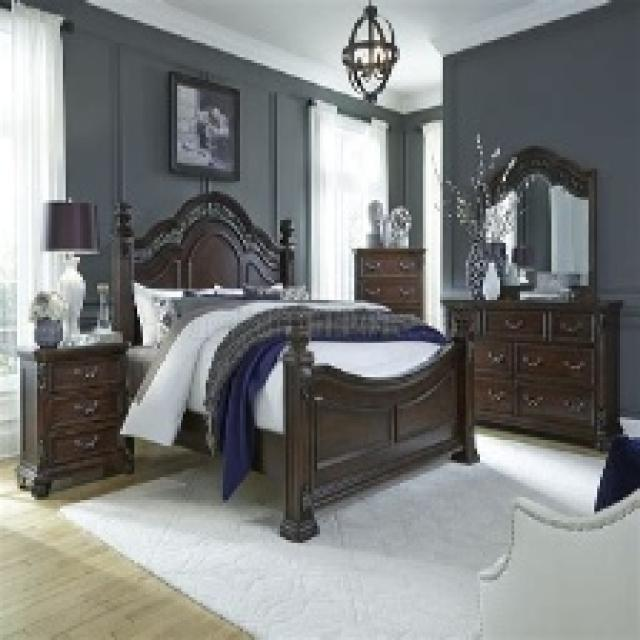Bed: (109, 183, 474, 540)
